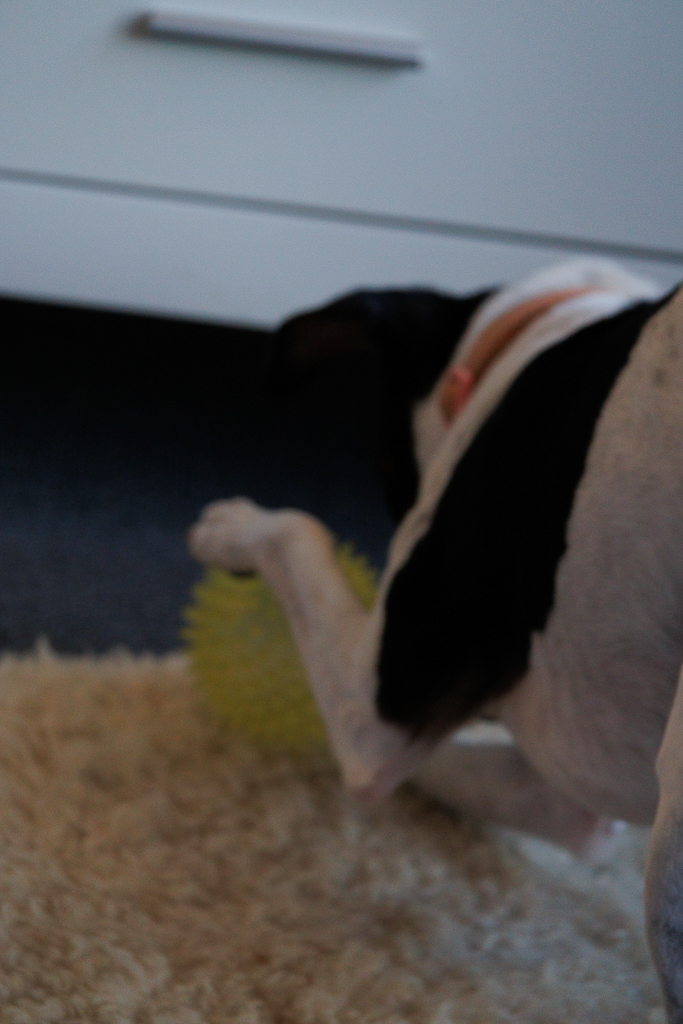Dog: (166, 242, 683, 1024)
